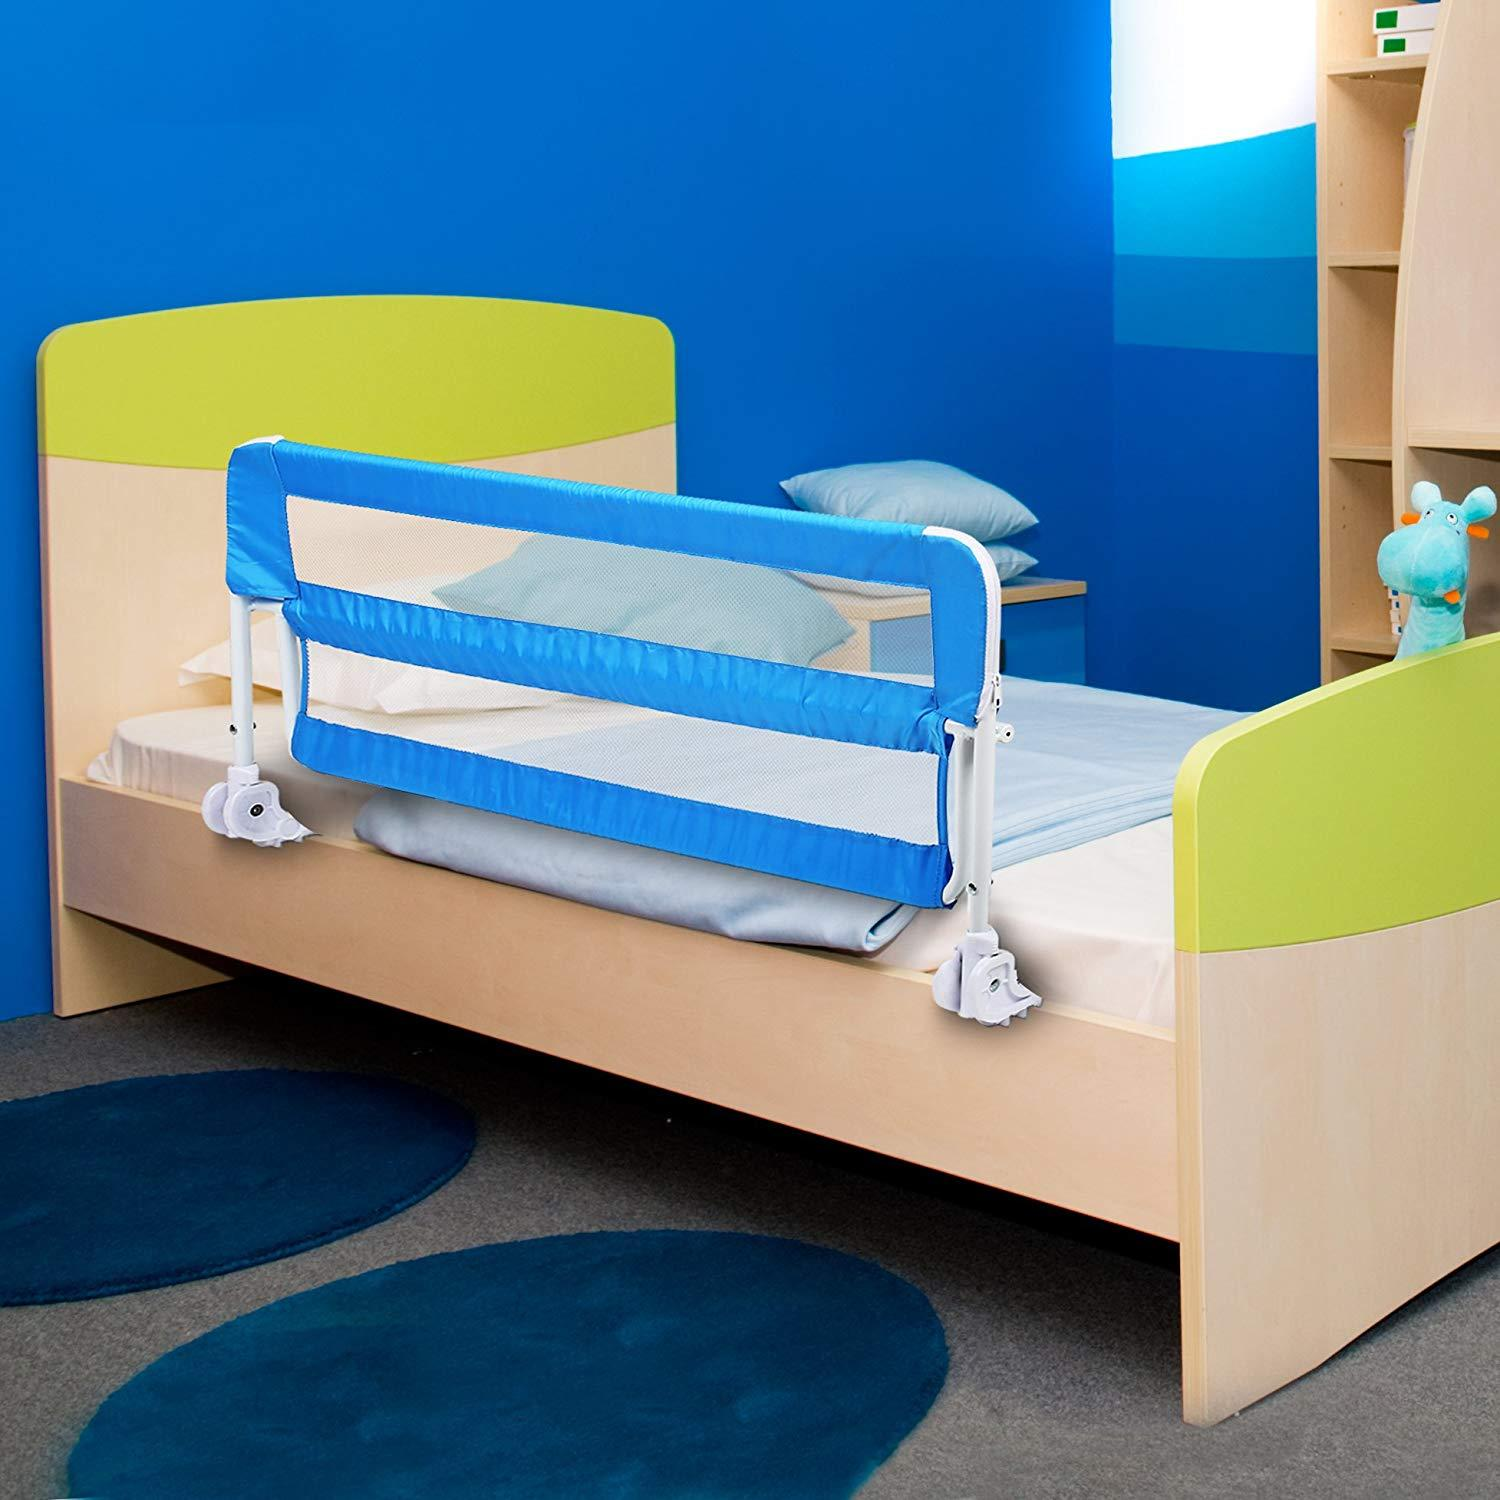bed: (0, 247, 1500, 1313)
